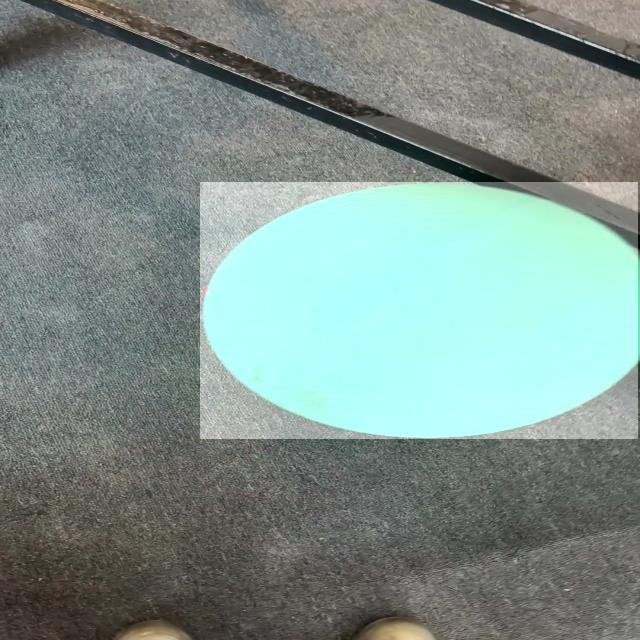Algae: (201, 182, 638, 439)
